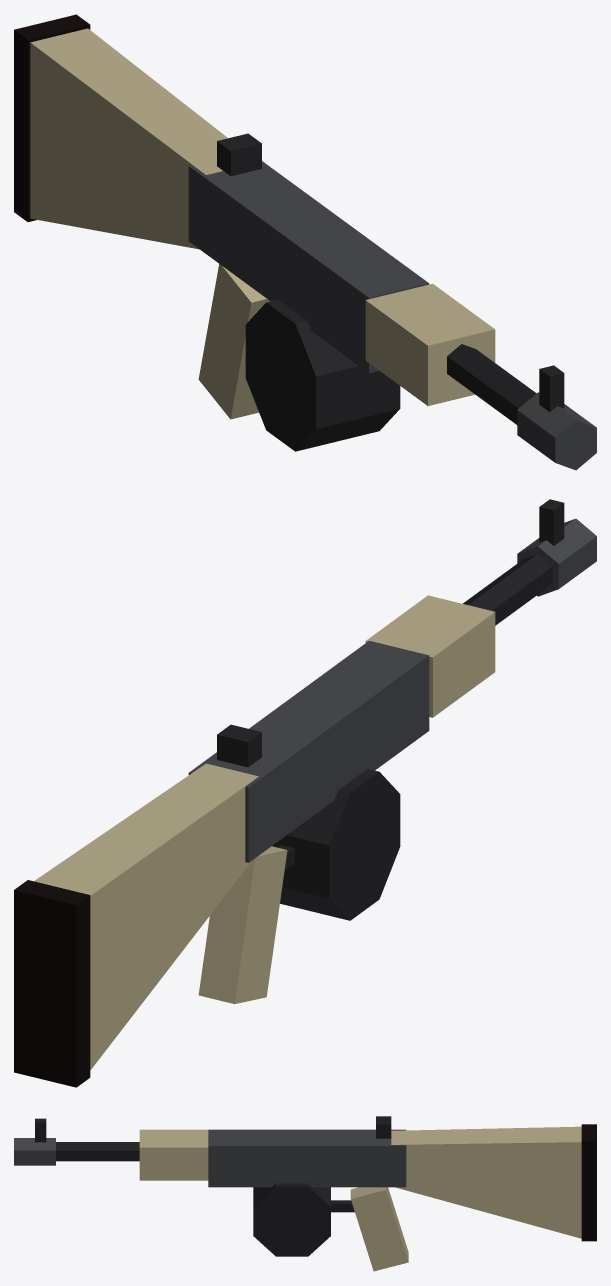
The model's file is wtype_auto.glb.
3 views of the same model, one above another, from view 1: azimuth 30°, elevation 25°; view 2: azimuth 150°, elevation 25°; view 3: azimuth 270°, elevation 25° (orthographic). The views are drawn at different scales.
Visible parts, largest first — view 1: wtype_auto; view 2: wtype_auto; view 3: wtype_auto.
Part boxes in pixels (box(x1,y1,x2,y2)): wtype_auto: box(14, 14, 596, 470); wtype_auto: box(14, 499, 596, 1087); wtype_auto: box(14, 1116, 596, 1271).
Size of the model in its own units: 0.07 by 0.2116 by 0.765.
